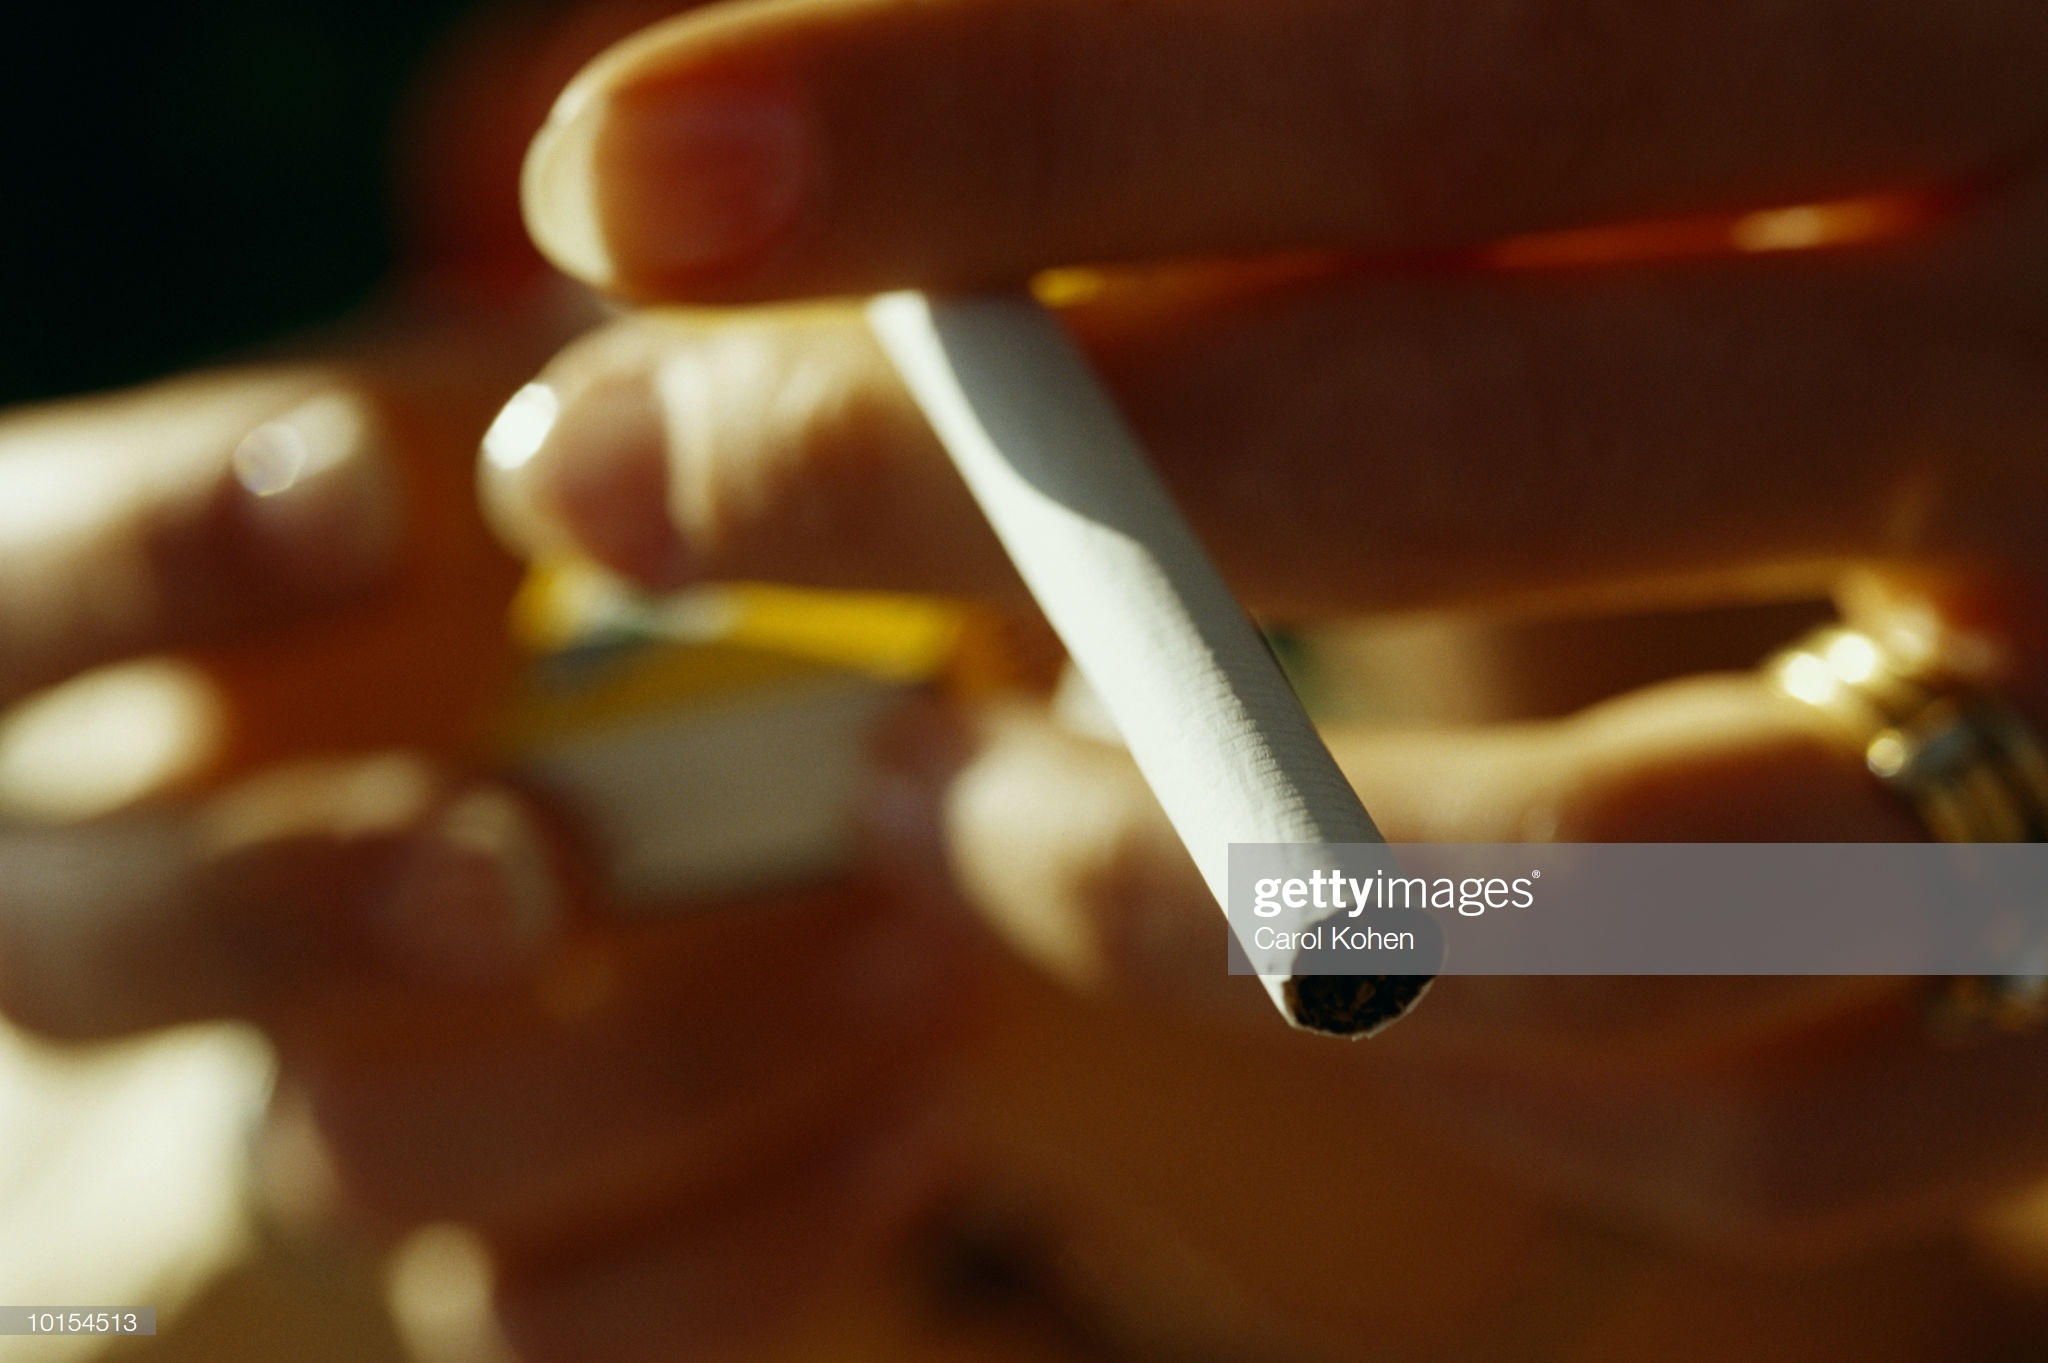sigaretta: (918, 259, 1425, 1028)
